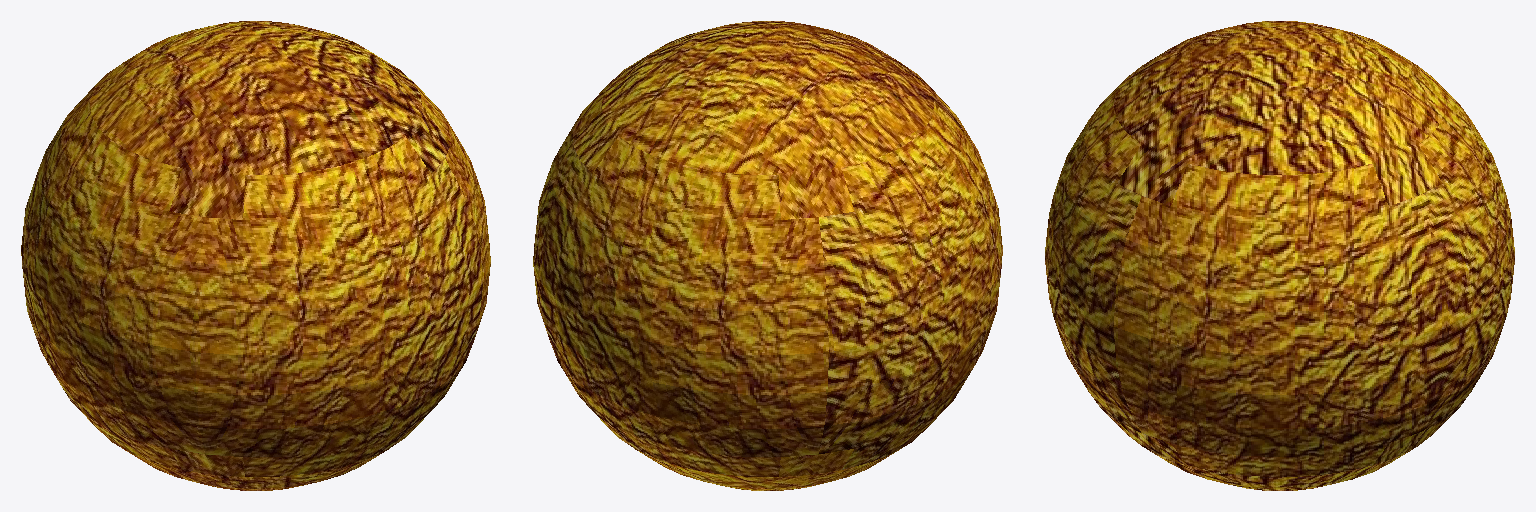
3 views of the same model, side by side, from view 1: azimuth 30°, elevation 25°; view 2: azimuth 150°, elevation 25°; view 3: azimuth 270°, elevation 25° (orthographic).
Visible parts, largest first — view 1: gold_particle; view 2: gold_particle; view 3: gold_particle.
Part boxes in pixels (left/top/right/bottom): gold_particle: left=21, top=21, right=490, bottom=490; gold_particle: left=533, top=21, right=1002, bottom=490; gold_particle: left=1045, top=21, right=1514, bottom=490.
Bounding box in the file's own units: 2 × 2 × 2.
1 materials, 1 textured.